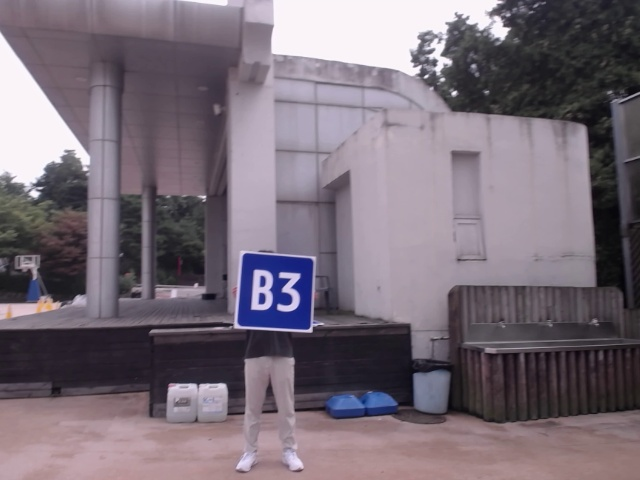delivery_b3: (236, 255, 314, 330)
